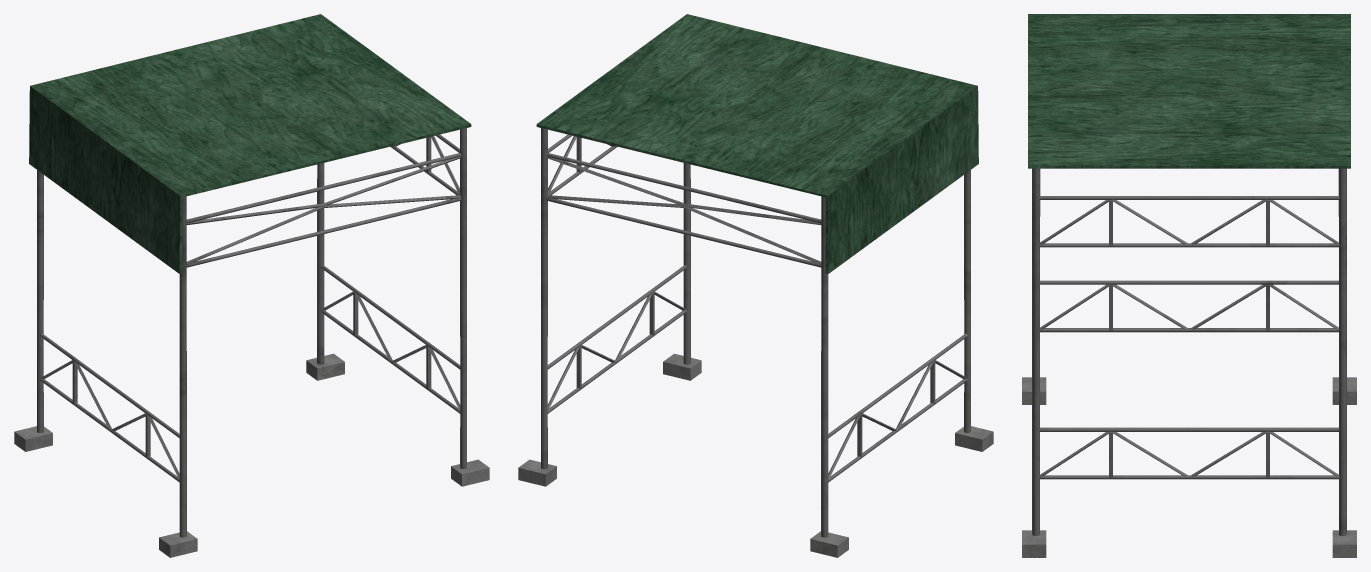
The model's file is scaffolding.glb.
The picture shows the model from 3 angles, left to right: view 1: azimuth 30°, elevation 25°; view 2: azimuth 150°, elevation 25°; view 3: azimuth 270°, elevation 25°; orthographic projection. The views are drawn at different scales.
Parts seen in each view (by area): view 1: Plane.001; view 2: Plane.001; view 3: Plane.001.
Boxes of the visible parts, box(x1,y1,x2,y2) form: Plane.001: box(14, 14, 489, 557); Plane.001: box(518, 14, 993, 557); Plane.001: box(1022, 14, 1356, 557).
Size of the model in its own units: 3.95 by 4.22 by 3.34.
1 material, 1 textured.
